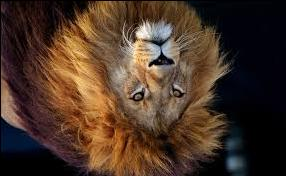Non_Gorille: (21, 0, 237, 173)
